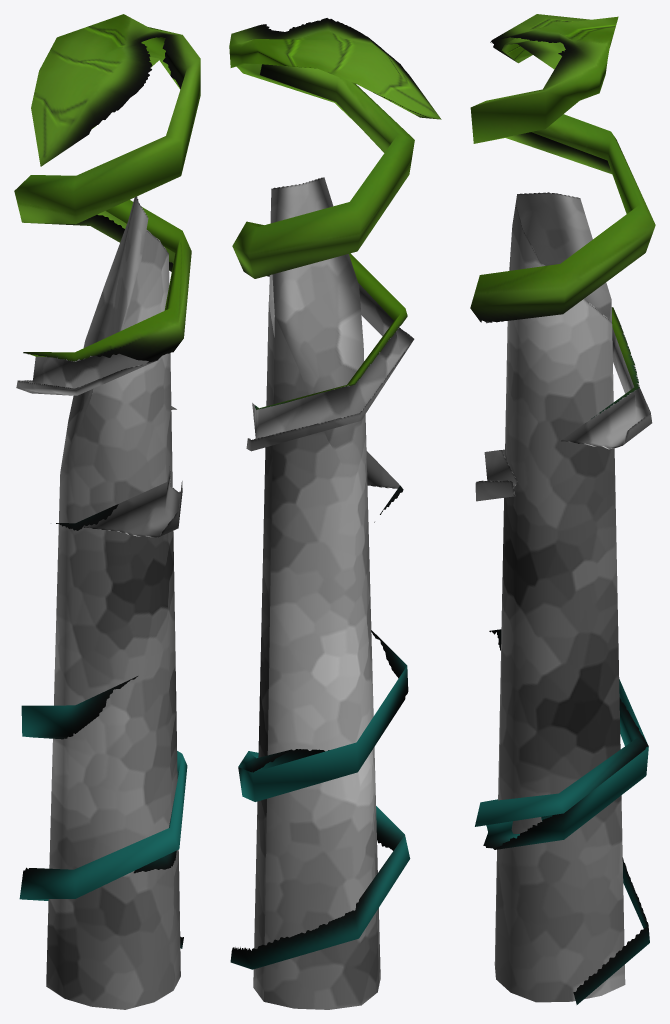
The model's file is screw.dae.
The picture shows the model from 3 angles, left to right: view 1: azimuth 30°, elevation 25°; view 2: azimuth 150°, elevation 25°; view 3: azimuth 270°, elevation 25°; orthographic projection.
Visible parts, largest first — view 1: pPlane3; view 2: pPlane3; view 3: pPlane3.
Part boxes in pixels (x1=…): pPlane3: x1=14, y1=14, x2=200, y2=1009; pPlane3: x1=229, y1=18, x2=441, y2=1009; pPlane3: x1=470, y1=14, x2=655, y2=1004.
Bounding box in the file's own units: 1.3 × 6.54 × 1.15.
